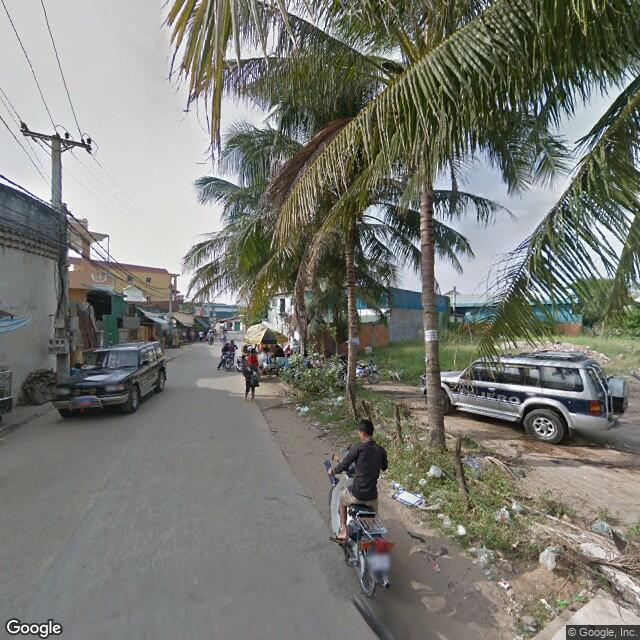litter: (392, 474, 428, 515), (481, 496, 513, 537), (497, 573, 513, 602), (292, 398, 314, 418)
